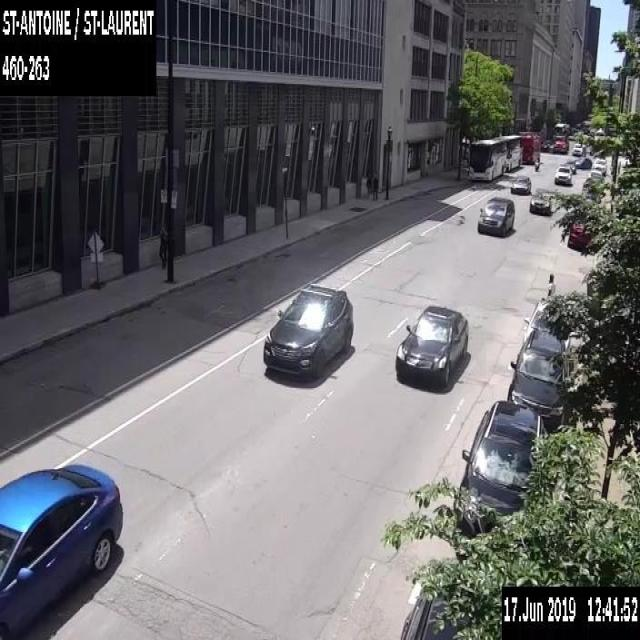bus: (468, 136, 506, 180), (495, 134, 522, 170), (518, 129, 540, 161)
construction: (86, 229, 105, 288)
pedestrian: (365, 173, 378, 203), (158, 221, 166, 267), (546, 273, 556, 298)
vehicle: (0, 460, 122, 639), (453, 399, 548, 560), (262, 282, 352, 379), (394, 304, 470, 392), (507, 326, 568, 428), (400, 586, 473, 638), (522, 299, 570, 348), (476, 195, 516, 236), (566, 220, 591, 251), (528, 187, 554, 213), (510, 175, 530, 193), (554, 165, 572, 182), (552, 138, 568, 152), (593, 158, 606, 175), (554, 122, 567, 139), (584, 189, 600, 202), (574, 156, 591, 168), (589, 169, 604, 182), (564, 157, 576, 172), (572, 142, 582, 154), (581, 181, 591, 193), (594, 128, 604, 138), (533, 155, 539, 169), (543, 139, 553, 147)
